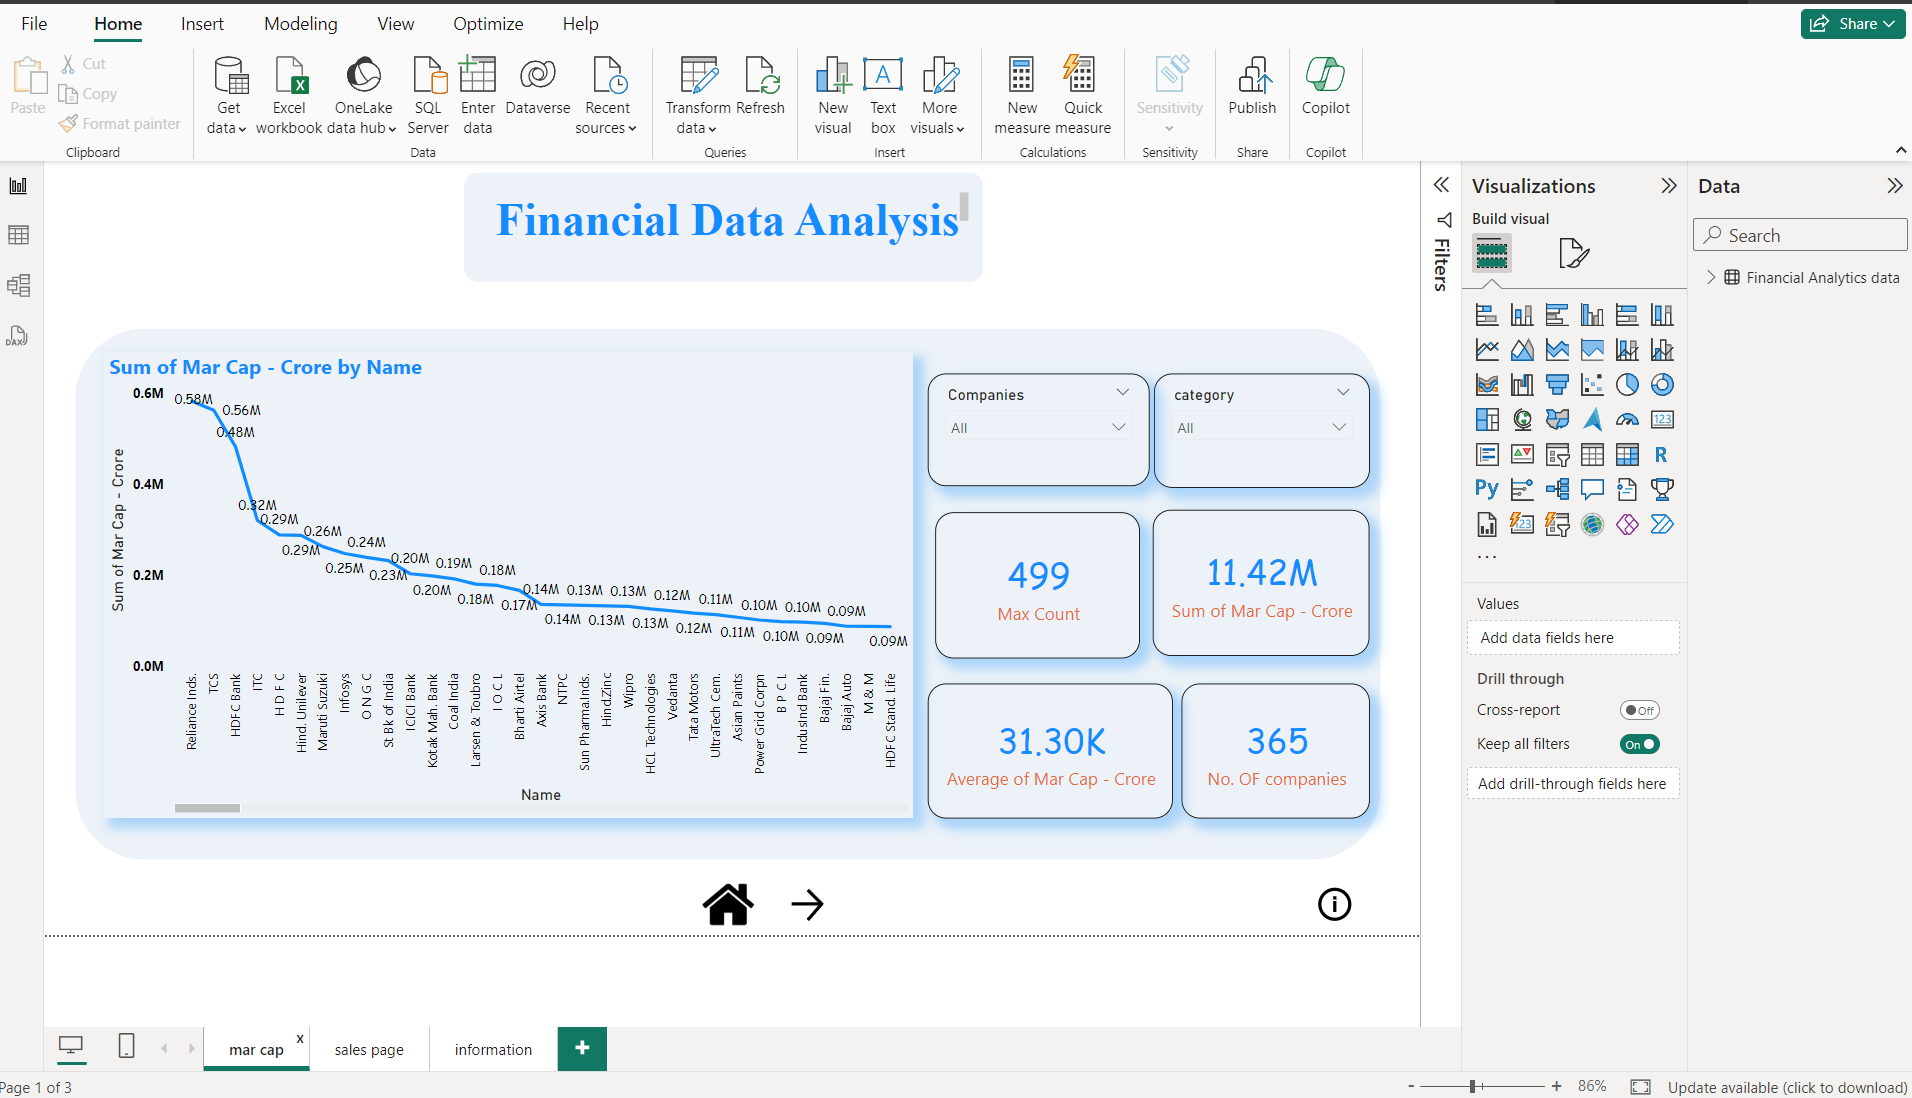

What the dashboard file says about the page in this screenshot:
{"tool":"powerbi","page":{"name":"mar cap","canvas":[1280,720],"ordinal":0},"visuals":[{"type":"shape","box":[390.4,10.8,483.3,102.3],"z":0},{"type":"textbox","box":[414.6,24.2,449.6,66],"z":1000},{"type":"shape","box":[29.2,156,1214.4,494.2],"z":2000},{"type":"actionButton","box":[689.7,671.8,99.9,40],"z":2000},{"type":"lineChart","fields":{"Category":["Financial Analytics data.Name"],"Y":["Sum(Financial Analytics data.Mar Cap - Crore)"]},"box":[55.3,178.1,752.8,433.2],"z":3000},{"type":"card","fields":{"Values":["Sum(Financial Analytics data.Mar Cap - Crore)"]},"box":[1031.4,324.9,201.9,135.6],"z":4000},{"type":"actionButton","box":[1180.7,670.8,98.8,41],"z":4000},{"type":"slicer","fields":{"Values":["Financial Analytics data.category "]},"box":[1032.5,197.7,200.8,106.2],"z":5000},{"type":"image","box":[583.5,662.4,106.2,57.8],"z":5000},{"type":"card","fields":{"Values":["Max(Financial Analytics data.S.No.)"]},"box":[829.6,327,190.3,135.6],"z":6000},{"type":"card","fields":{"Values":["Avg(Financial Analytics data.Mar Cap - Crore)"]},"box":[822.1,486,227.9,125.6],"z":7000},{"type":"card","fields":{"Values":["Count(Financial Analytics data)"]},"box":[1058.1,486,175.6,125.6],"z":7000},{"type":"slicer","fields":{"Values":["Financial Analytics data.Name"]},"box":[822.2,197.7,206.1,105.1],"z":8000}]}

Visuals, with their boxes on the page's 1280x720 design canvas (x1, y1, x2, y2). These are canvas units, not pixel positions in the 1912x1098 screenshot, which may show the page scaled, cropped or inside an application window:
shape: box(390, 11, 874, 113)
textbox: box(415, 24, 864, 90)
shape: box(29, 156, 1244, 650)
actionButton: box(690, 672, 790, 712)
lineChart - Financial Analytics data.Name x Sum(Financial Analytics data.Mar Cap - Crore): box(55, 178, 808, 611)
card - Sum(Financial Analytics data.Mar Cap - Crore): box(1031, 325, 1233, 460)
actionButton: box(1181, 671, 1280, 712)
slicer - Financial Analytics data.category : box(1032, 198, 1233, 304)
image: box(584, 662, 690, 720)
card - Max(Financial Analytics data.S.No.): box(830, 327, 1020, 463)
card - Avg(Financial Analytics data.Mar Cap - Crore): box(822, 486, 1050, 612)
card - Count(Financial Analytics data): box(1058, 486, 1234, 612)
slicer - Financial Analytics data.Name: box(822, 198, 1028, 303)
